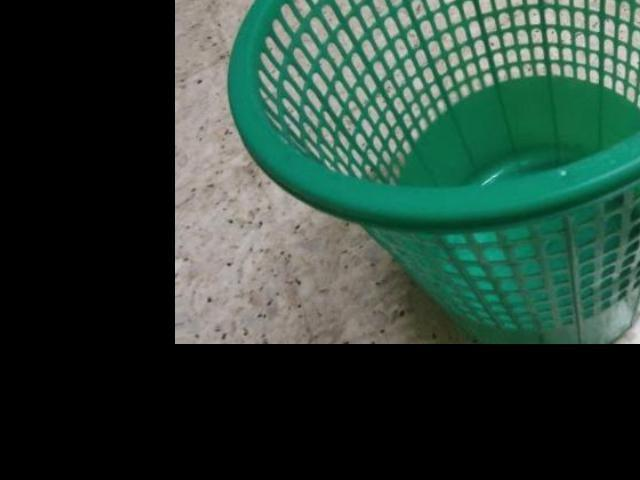Bote de Basura: (211, 0, 640, 377)
